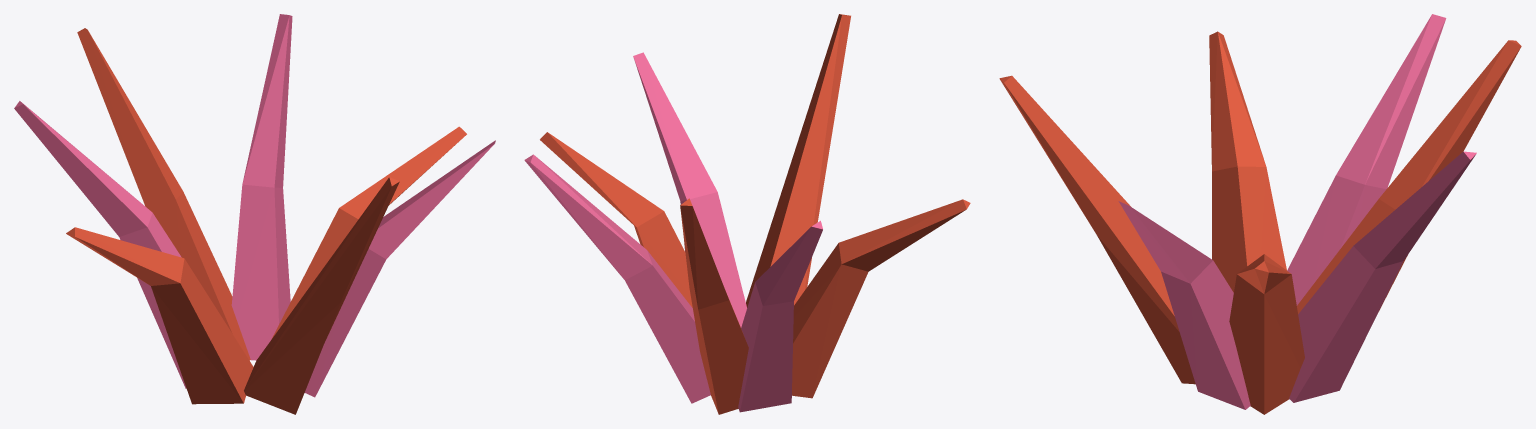
The model's file is aq_anemone_clump.fbx.
3 views of the same model, side by side, from view 1: azimuth 30°, elevation 25°; view 2: azimuth 150°, elevation 25°; view 3: azimuth 270°, elevation 25° (orthographic). The views are drawn at different scales.
Visible parts, largest first — view 1: aq_anemone_clump; view 2: aq_anemone_clump; view 3: aq_anemone_clump.
Boxes of the visible parts, box(x1,y1,x2,y2) form: aq_anemone_clump: box(14, 14, 495, 414); aq_anemone_clump: box(524, 14, 970, 414); aq_anemone_clump: box(999, 14, 1521, 414).
Size of the model in its own units: 0.6 by 0.4 by 0.6.
